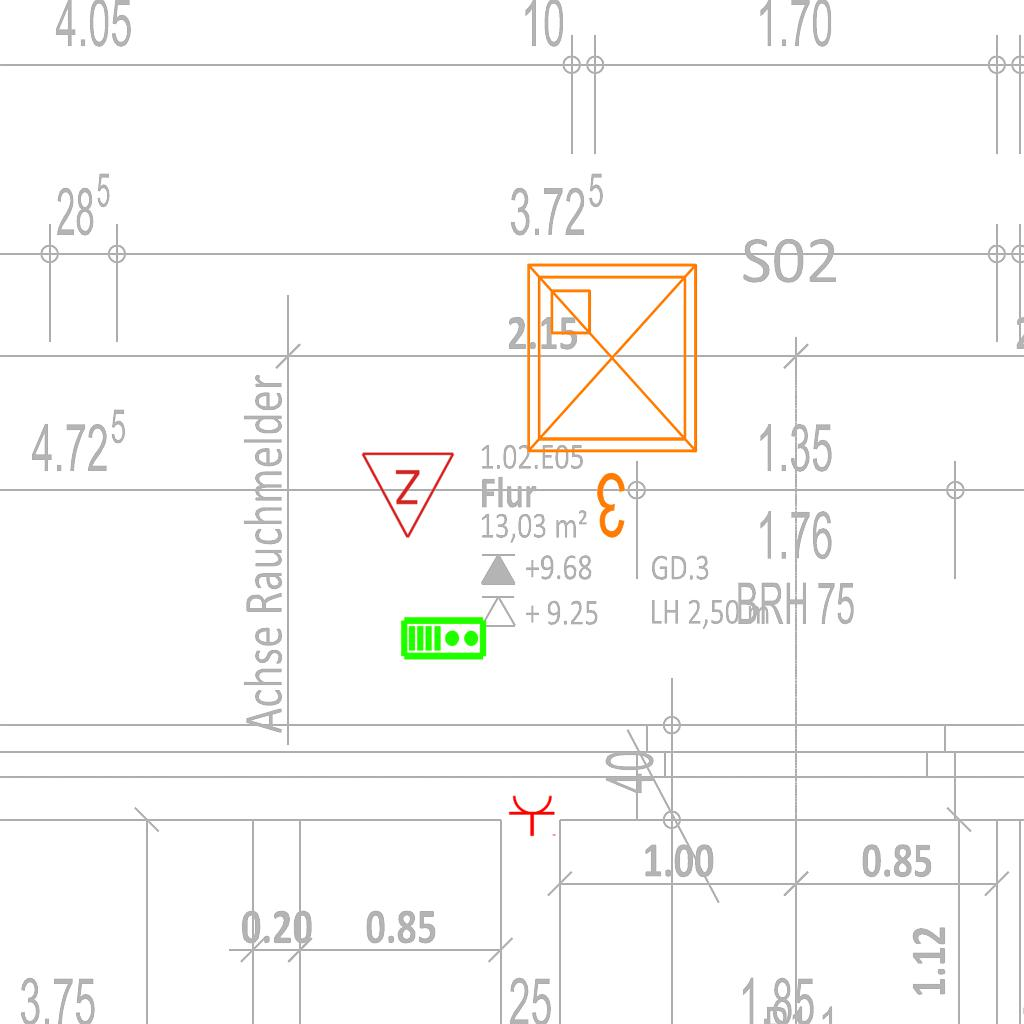Einbaudownlights_LED_Konferenzraeume: (512, 249, 720, 549)
Gegensprechanlage_mit_Video: (400, 614, 488, 661)
Schukosteckdose_einfach: (508, 794, 558, 837)
Zimmersignalleuchte: (360, 445, 458, 545)
